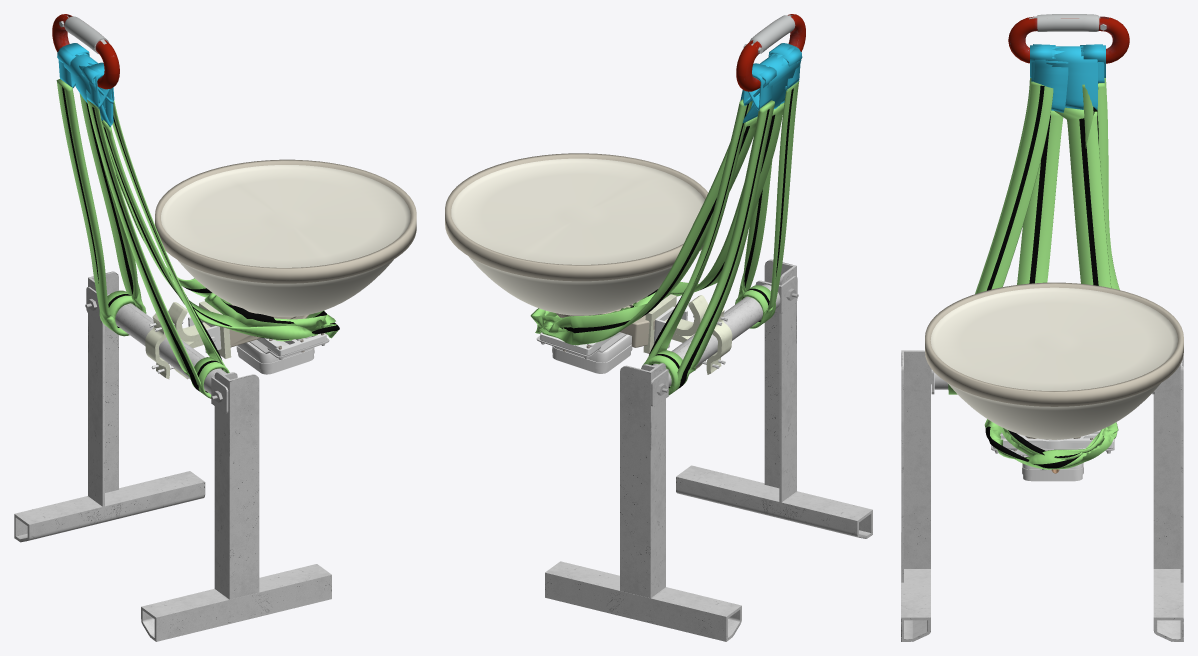
Rendered from rope2.fbx.
3 renders of one model, left to right at view 1: azimuth 30°, elevation 25°; view 2: azimuth 150°, elevation 25°; view 3: azimuth 270°, elevation 25°, orthographic. The views are drawn at different scales.
Visible parts, largest first — view 1: microwave_antenna, Plane.002, Plane.001, Plane, karbinet, Plane.005, Plane.004, Plane.003; view 2: microwave_antenna, Plane.002, Plane, Plane.001, karbinet, Plane.005, Plane.003, Plane.004; view 3: microwave_antenna, Plane, Plane.001, Plane.005, karbinet, Plane.002, Plane.003, Plane.004.
Part boxes in pixels (x1,y1,x2,y2): microwave_antenna: (14, 159, 416, 641); Plane.002: (56, 79, 146, 336); Plane.001: (87, 99, 229, 398); Plane: (101, 120, 339, 341); karbinet: (52, 14, 119, 89); Plane.005: (63, 54, 113, 127); Plane.004: (81, 62, 114, 108); Plane.003: (57, 43, 89, 88); microwave_antenna: (445, 153, 872, 641); Plane.002: (641, 99, 774, 395); Plane: (530, 102, 784, 345); Plane.001: (735, 81, 799, 328); karbinet: (736, 14, 805, 91); Plane.005: (740, 47, 801, 123); Plane.003: (743, 63, 776, 110); Plane.004: (768, 43, 802, 90); microwave_antenna: (901, 282, 1183, 641); Plane: (984, 107, 1118, 469); Plane.001: (948, 78, 1053, 394); Plane.005: (1034, 46, 1098, 112); karbinet: (1008, 14, 1129, 63); Plane.002: (1082, 78, 1119, 289); Plane.003: (1080, 44, 1105, 82); Plane.004: (1030, 44, 1055, 81).
Size of the model in its own units: 75.53 by 124 by 58.01.
